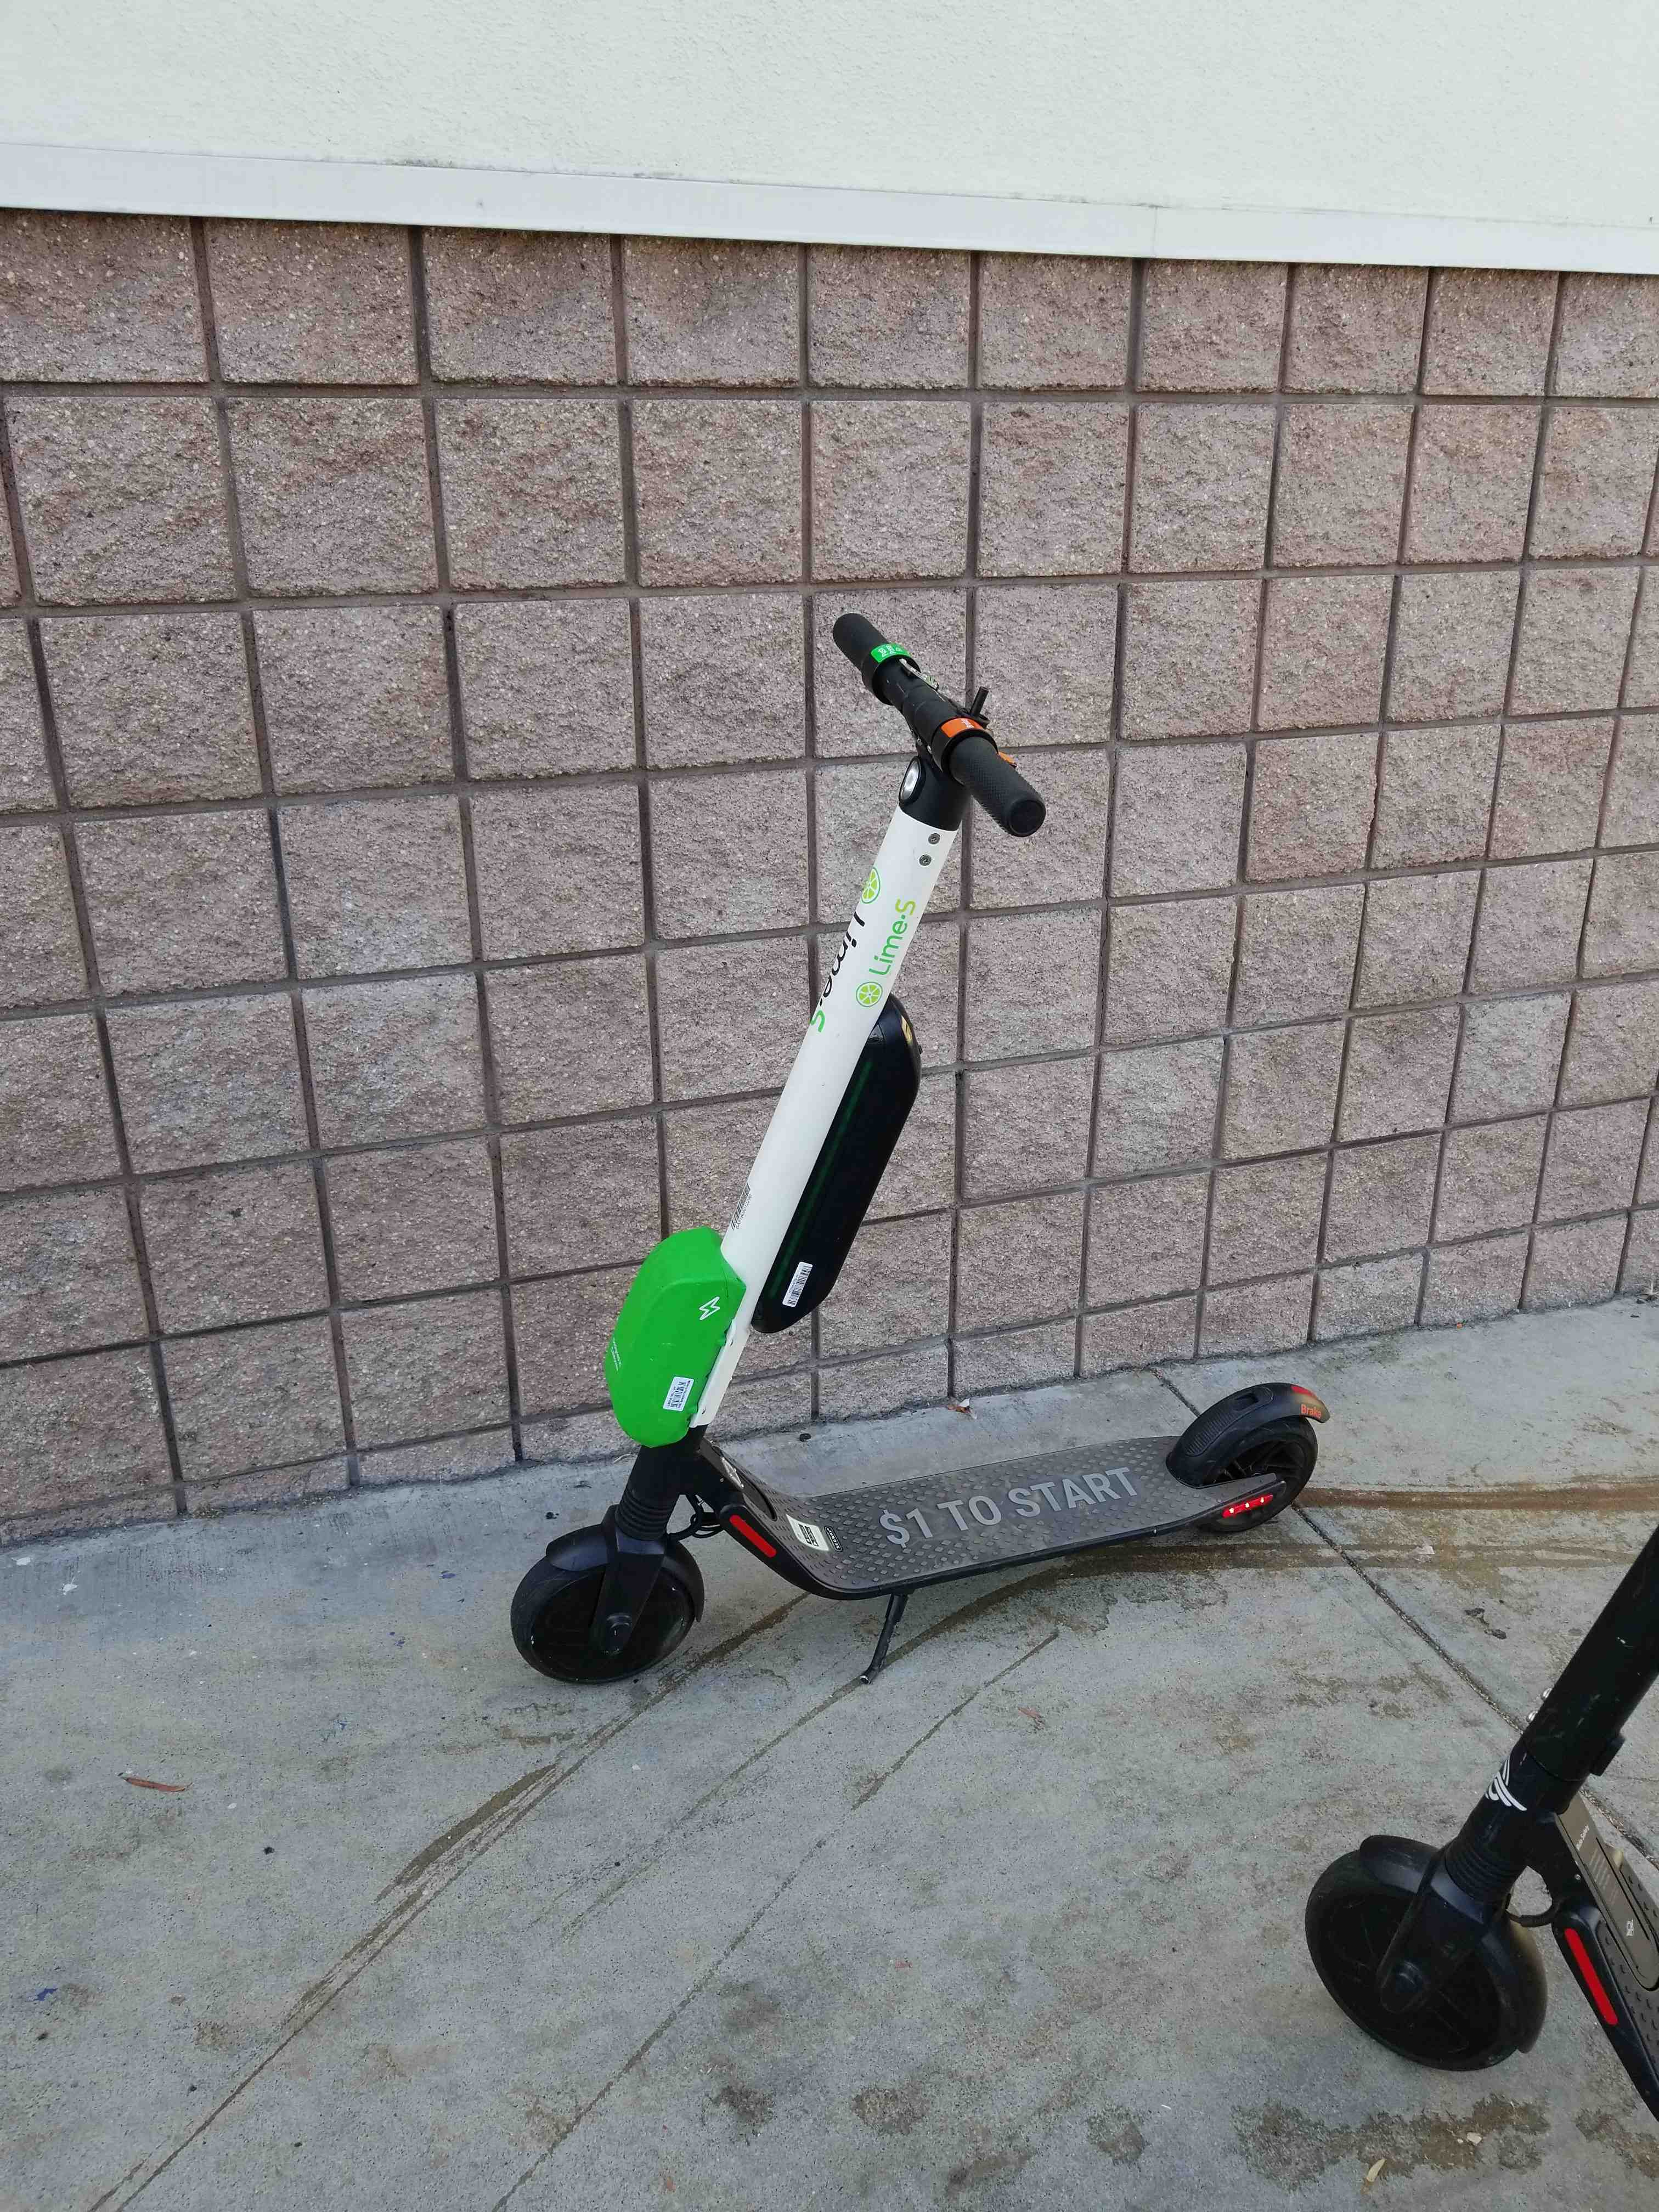scooter: (484, 554, 1375, 1735)
